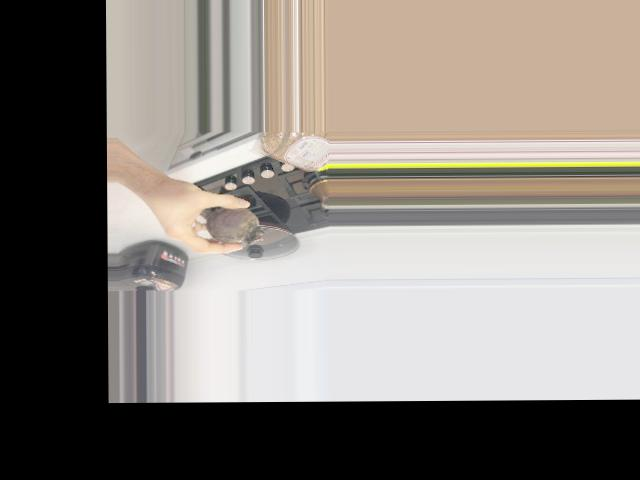beet: (203, 207, 264, 243)
